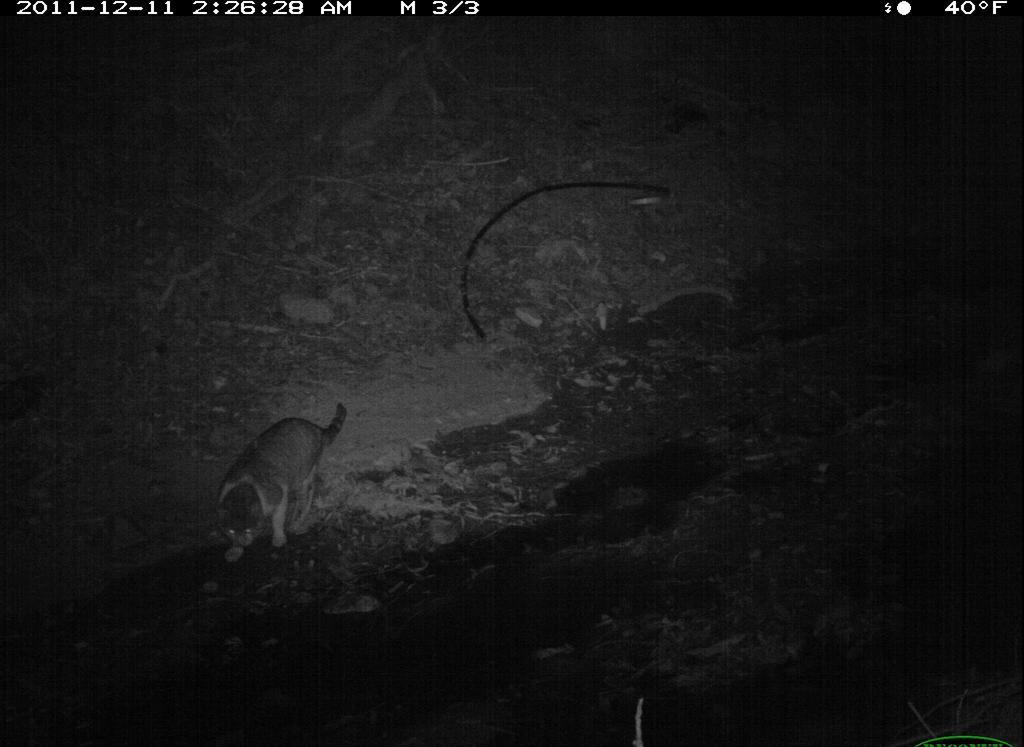cat: (209, 395, 353, 573)
